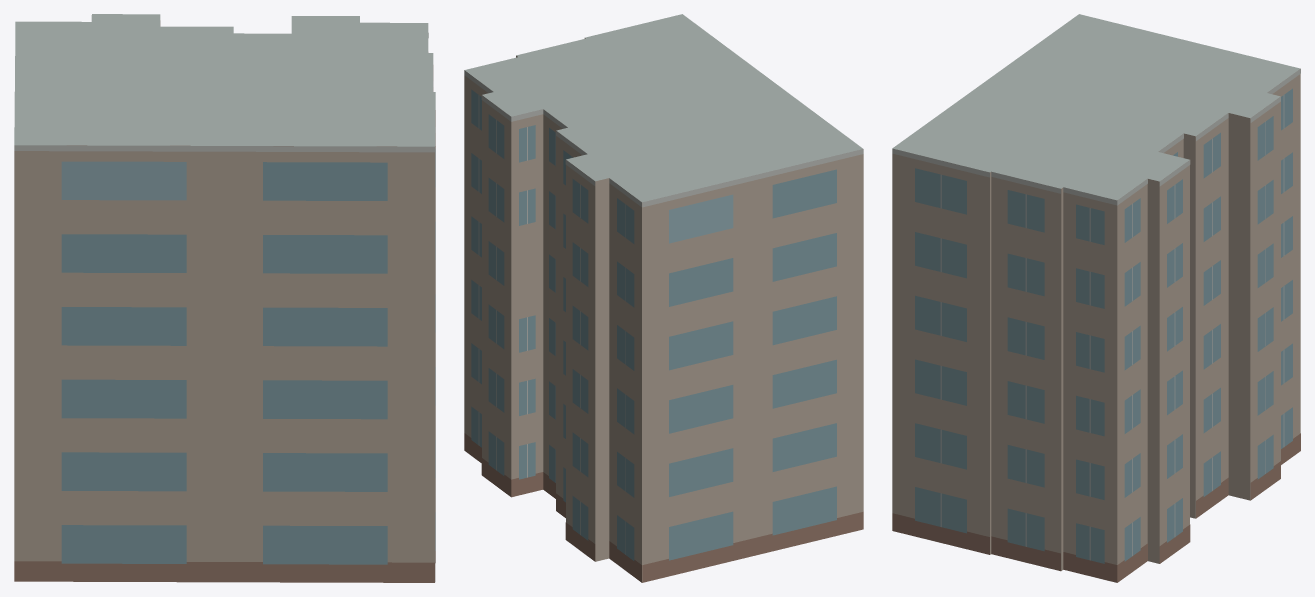
File: survey-upis-32724402.glb
3 views of the same model, side by side, from view 1: azimuth 30°, elevation 25°; view 2: azimuth 150°, elevation 25°; view 3: azimuth 270°, elevation 25° (orthographic). The views are drawn at different scales.
Visible parts, largest first — view 1: survey-upis-32724402.tmp; view 2: survey-upis-32724402.tmp; view 3: survey-upis-32724402.tmp.
Boxes of the visible parts, x1,y1,x2,y2 form: survey-upis-32724402.tmp: (14, 14, 435, 582); survey-upis-32724402.tmp: (464, 14, 863, 582); survey-upis-32724402.tmp: (892, 14, 1300, 582).
Size of the model in its own units: 19.14 by 18.3 by 17.72.
